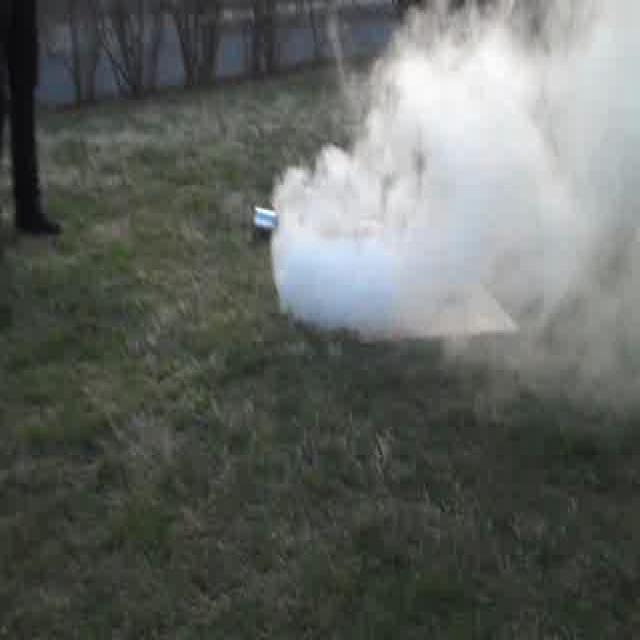Smoke: (308, 96, 632, 328)
